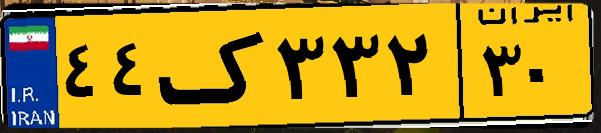0: (525, 38, 570, 115)
2: (385, 28, 445, 110)
3: (270, 28, 330, 110), (330, 28, 385, 110), (475, 38, 525, 113)
4: (57, 26, 110, 100), (110, 28, 158, 98)
ک: (158, 12, 270, 120)
